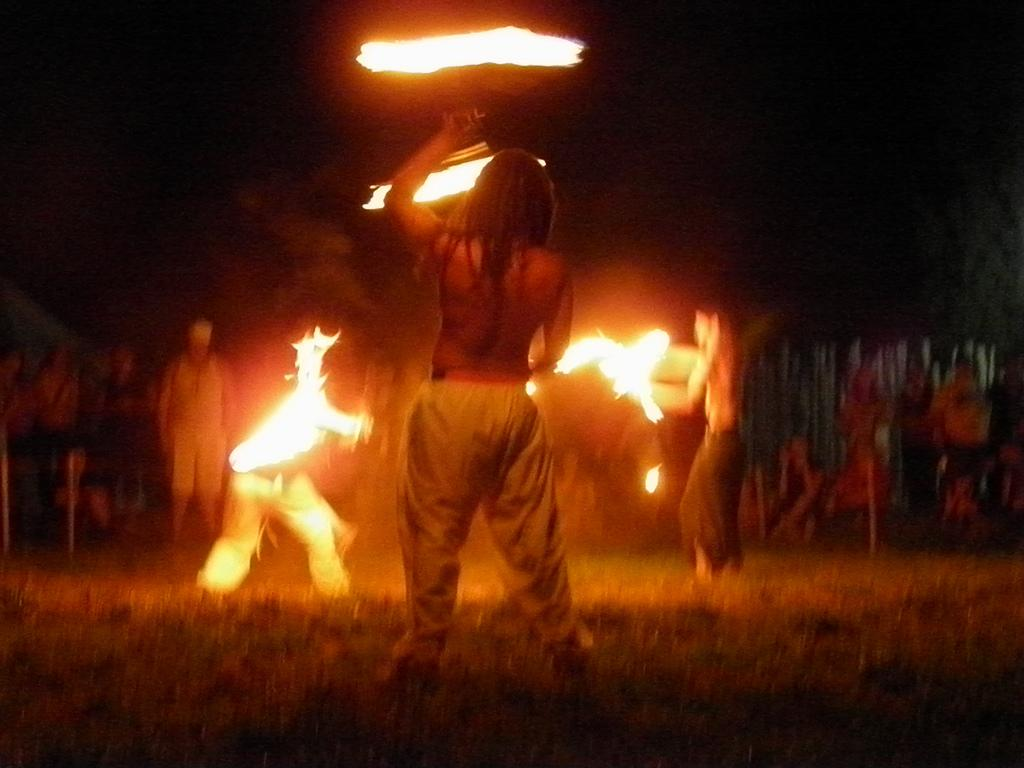fire: (278, 364, 342, 484), (386, 32, 574, 68), (602, 324, 654, 402), (424, 156, 494, 202)
